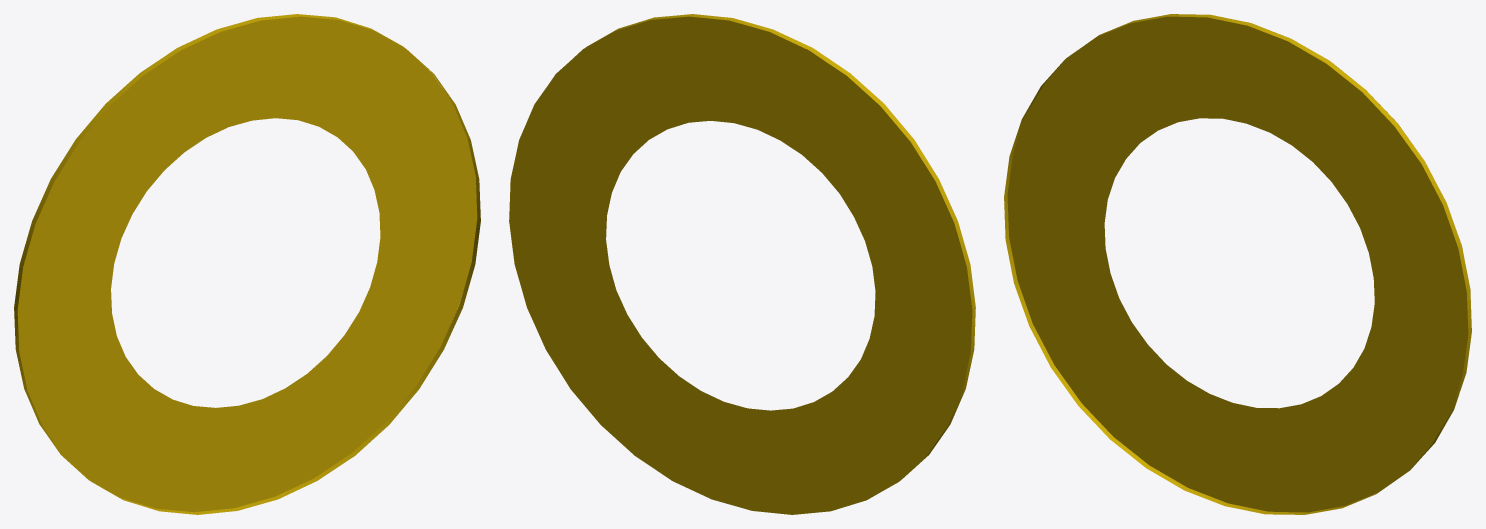
File: original-6.obj
3 renders of one model, left to right at view 1: azimuth 30°, elevation 25°; view 2: azimuth 150°, elevation 25°; view 3: azimuth 330°, elevation 25°, orthographic.
Visible parts, largest first — view 1: #ID37; view 2: #ID37; view 3: #ID37.
Boxes of the visible parts, <box> form: #ID37: <box>14,14,480,514</box>; #ID37: <box>509,14,975,514</box>; #ID37: <box>1004,14,1471,514</box>.
Size of the model in its own units: 0.4498 by 0.4498 by 0.00607.
